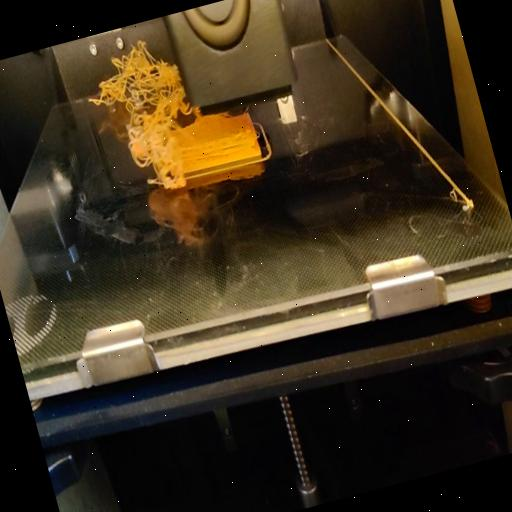spaghetti: (77, 26, 186, 122)
